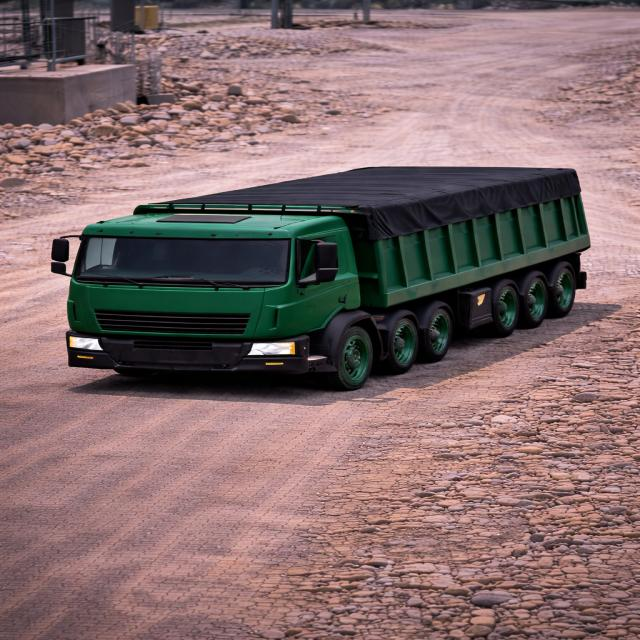trailer: (146, 166, 576, 212)
truck: (44, 156, 590, 387)
